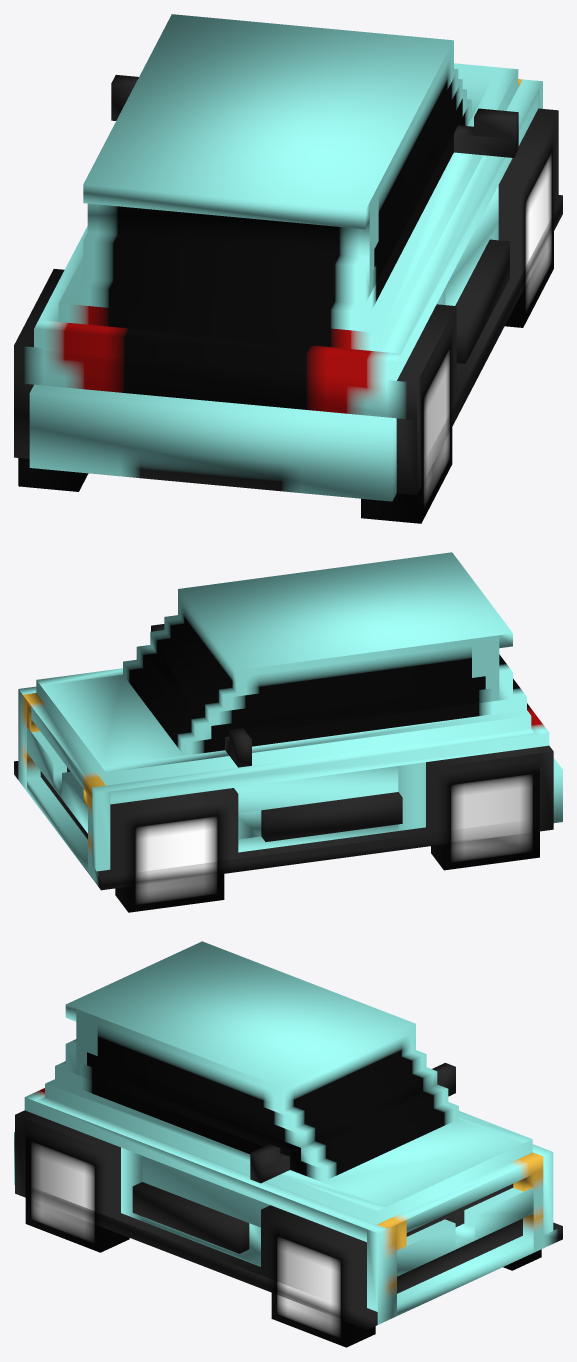
The model's file is city_car.003_lev3.glb.
3 views of the same model, one above another, from view 1: azimuth 30°, elevation 25°; view 2: azimuth 150°, elevation 25°; view 3: azimuth 270°, elevation 25° (orthographic). The views are drawn at different scales.
Parts seen in each view (by area): view 1: city_car.003_lev3; view 2: city_car.003_lev3; view 3: city_car.003_lev3.
Boxes of the visible parts, x1=… form: city_car.003_lev3: x1=14, y1=14, x2=562, y2=523; city_car.003_lev3: x1=14, y1=552, x2=562, y2=912; city_car.003_lev3: x1=14, y1=941, x2=562, y2=1347.
Size of the model in its own units: 13.65 by 5.9 by 13.98.
1 material, 1 textured.
